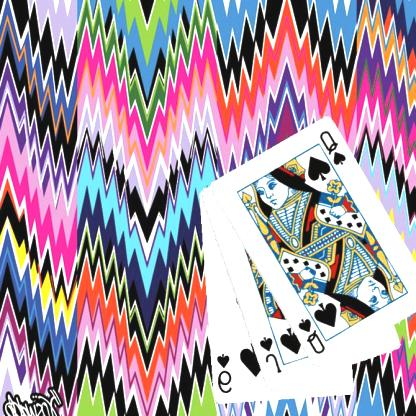6S: (216, 351, 234, 395)
JS: (258, 334, 284, 375)
QS: (297, 316, 328, 356), (318, 128, 349, 167)
